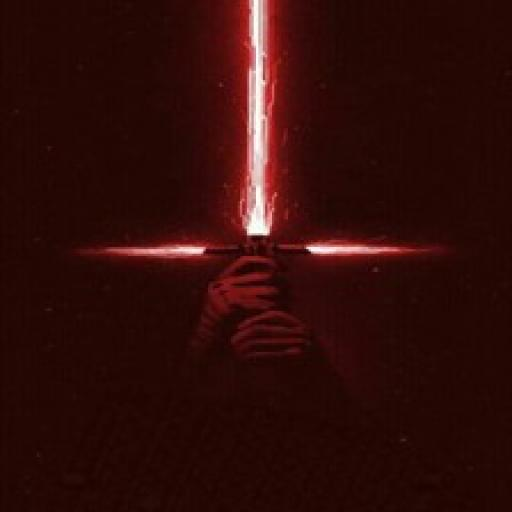sith saber: (76, 4, 446, 311)
